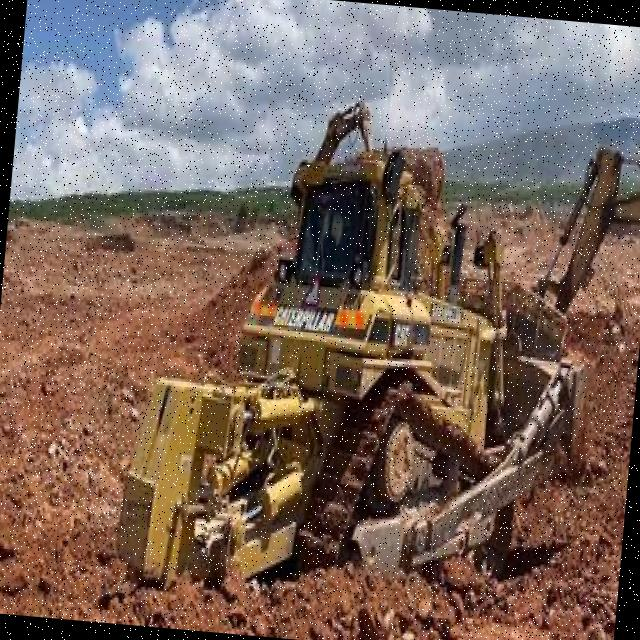Bulldozer: (93, 67, 623, 640)
